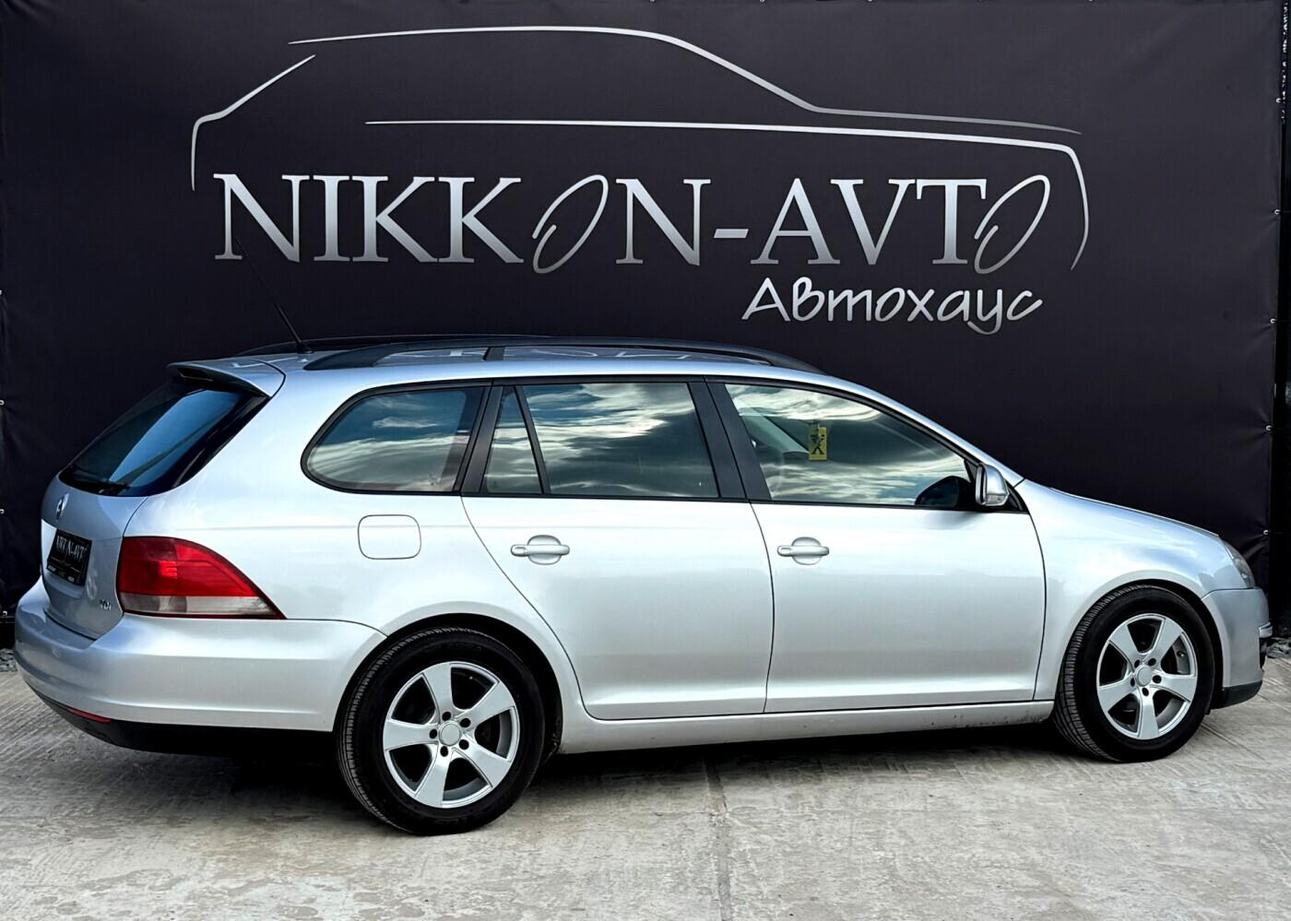Golf_2003-2009: (4, 340, 1276, 819)
